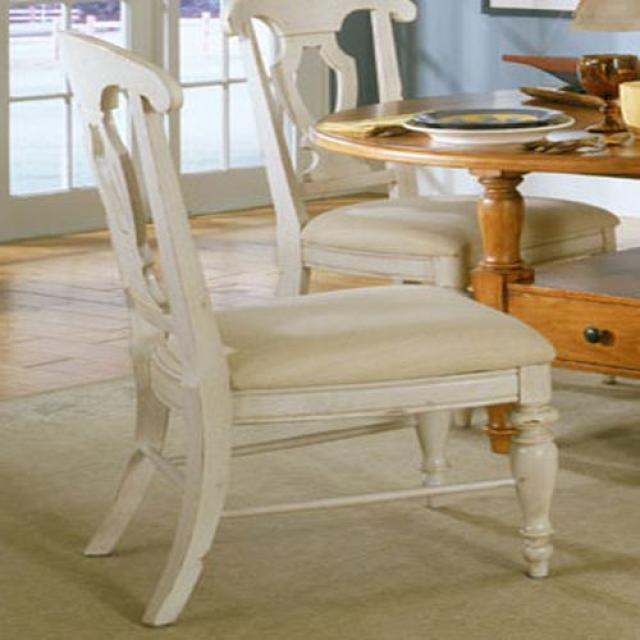chair: (60, 33, 559, 630), (223, 0, 481, 297), (520, 196, 621, 265)
